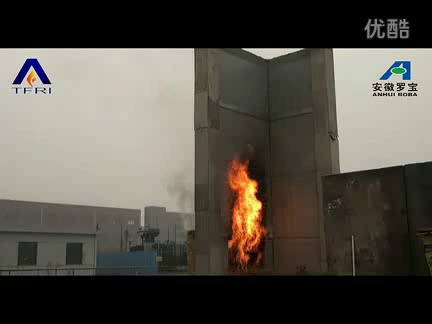fire: (225, 156, 266, 270)
